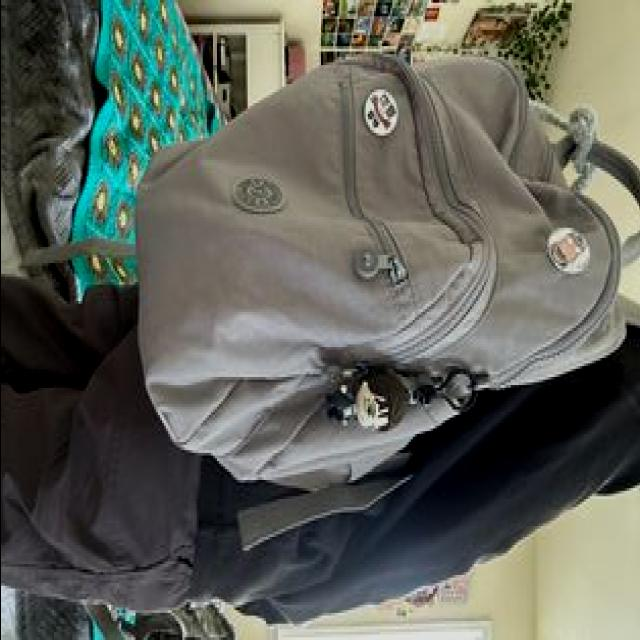backpack: (133, 47, 640, 538)
